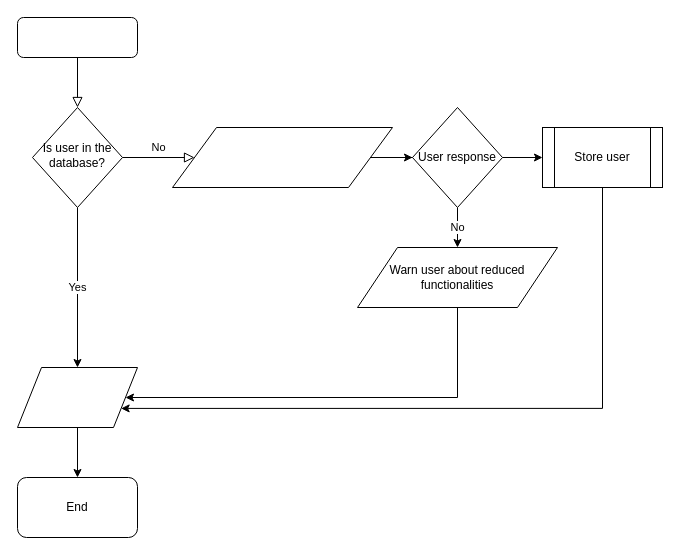
Image size: 680x555. Some labels were removed from this diagram. Here are the shapes that lost their labels. From the top down, the centre of each, then its label:
At (x=77, y=37): "User connects".
At (x=282, y=157): "Ask user if wants to be stored in database".
At (x=77, y=397): "Greet user".
